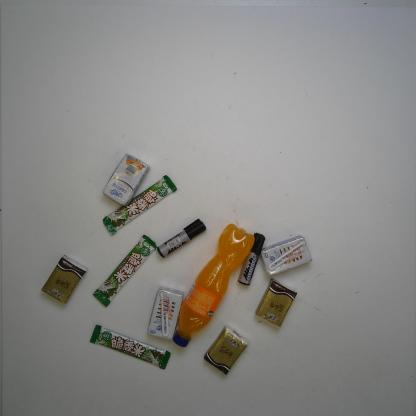Chocolate: (90, 230, 160, 310), (102, 174, 178, 235), (85, 322, 172, 372)
Drink: (172, 223, 259, 351)
Milk: (98, 150, 154, 209), (144, 286, 187, 344), (257, 237, 313, 277)
Stationery: (156, 218, 208, 259), (236, 230, 270, 286)
Tissue: (39, 251, 86, 307), (253, 276, 298, 331), (206, 326, 252, 378)
